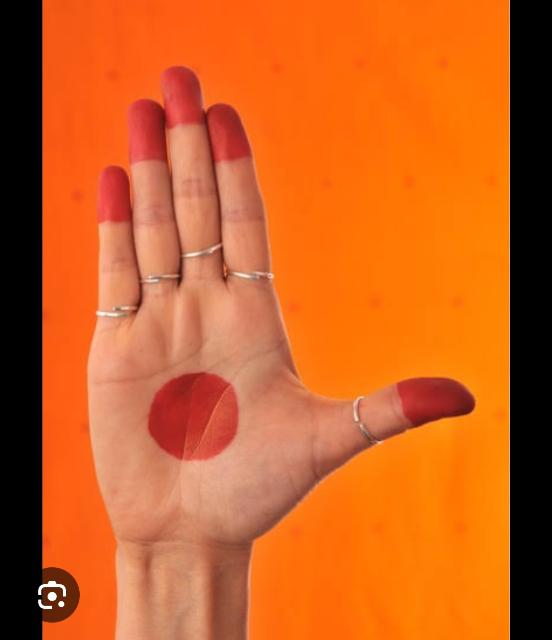ardhachandra: (69, 56, 498, 594)
